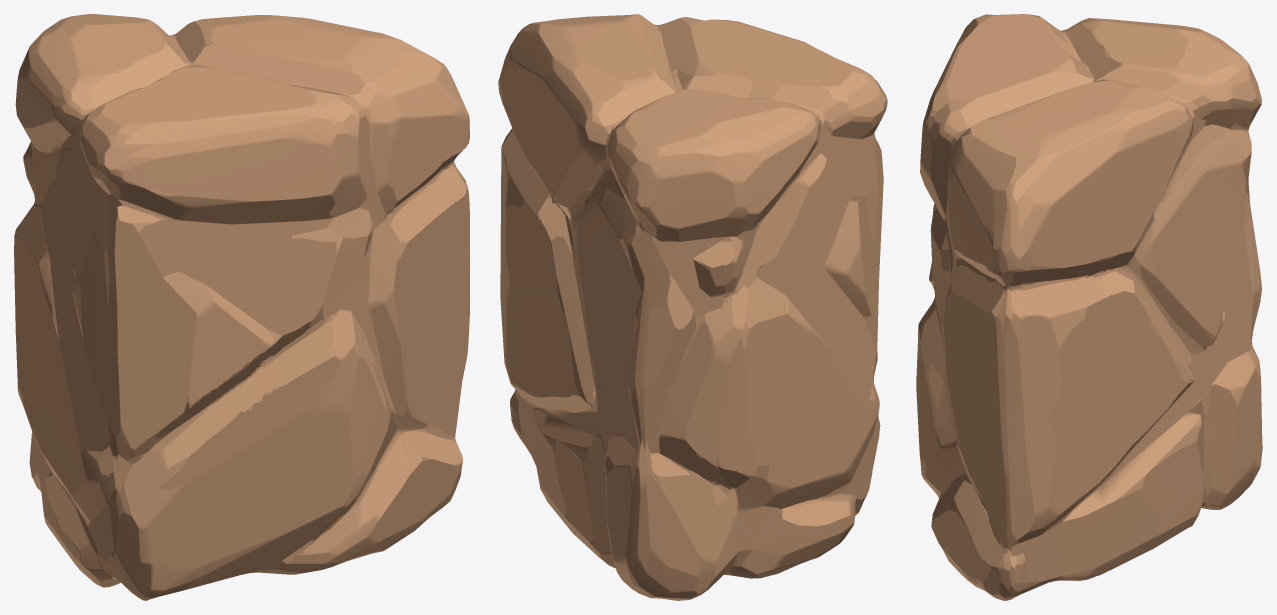
The picture shows the model from 3 angles, left to right: view 1: azimuth 30°, elevation 25°; view 2: azimuth 150°, elevation 25°; view 3: azimuth 270°, elevation 25°; orthographic projection. The views are drawn at different scales.
Visible parts, largest first — view 1: Mesh_9_LOD0; view 2: Mesh_9_LOD0; view 3: Mesh_9_LOD0.
Part boxes in pixels (x1,y1,x2,y2): Mesh_9_LOD0: (14, 14, 469, 600); Mesh_9_LOD0: (498, 14, 887, 600); Mesh_9_LOD0: (916, 14, 1262, 600).
Size of what is drawn, in the model's own units: 1704 by 2067 by 1416.
